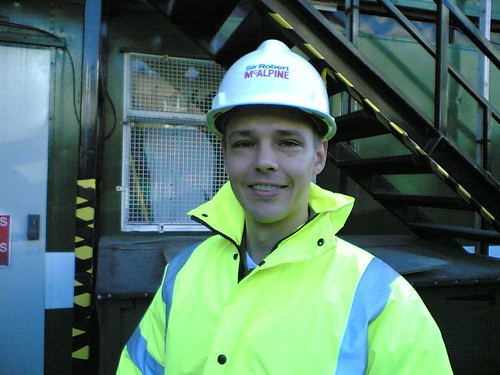person hardhat: (204, 40, 336, 224)
